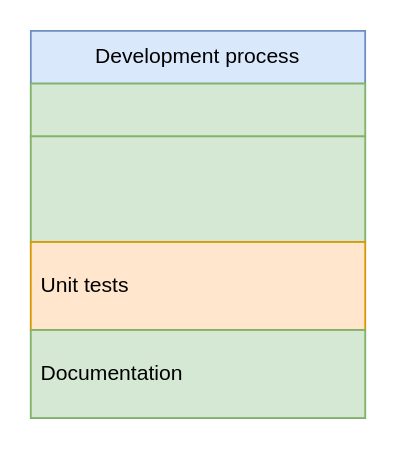
The diagram is 396 pixels wide and 449 high, and some of its shapes have lost their labels. Here are the shapes that lost their labels. From the top down, the box of each, then its label:
(29, 82, 365, 136): Continuous Integration
(29, 135, 365, 242): Code quality assessment and feedback
